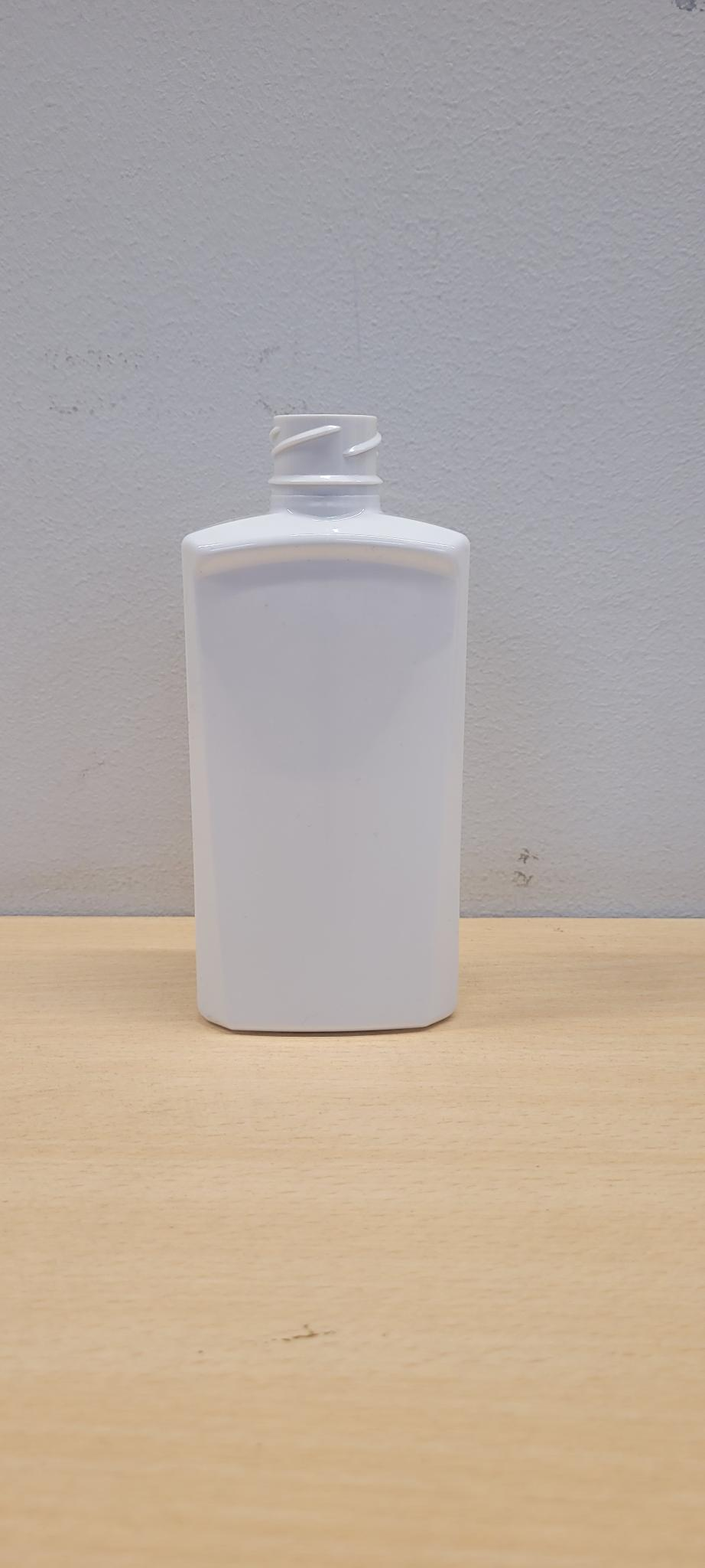bottle: (183, 413, 470, 1033)
